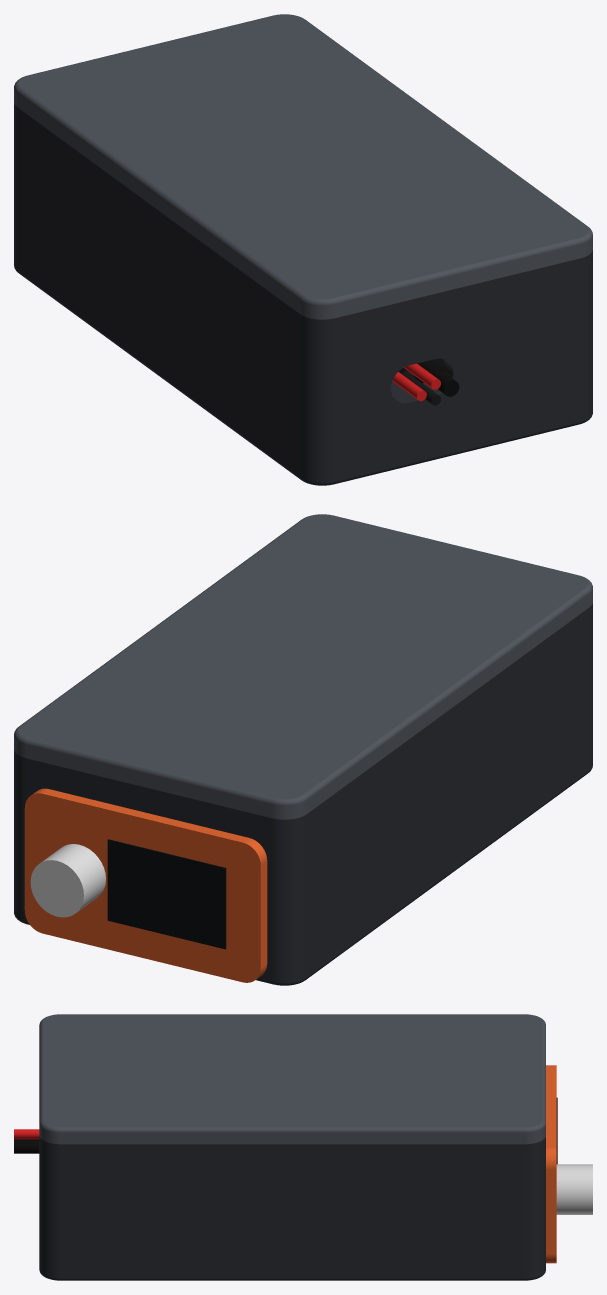
Rendered from wrangler_air_1591c.glb.
The picture shows the model from 3 angles, top to bottom: view 1: azimuth 30°, elevation 25°; view 2: azimuth 150°, elevation 25°; view 3: azimuth 270°, elevation 25°; orthographic projection. The views are drawn at different scales.
Parts seen in each view (by area): view 1: hammond_1591c_lid, hammond_1591c_body; view 2: hammond_1591c_lid, hammond_1591c_body, bezel, screen, knob; view 3: hammond_1591c_body, hammond_1591c_lid, bezel, knob, sensor_bundle.
Boxes of the visible parts, left/top/right/bottom form: hammond_1591c_lid: left=14, top=14, right=592, bottom=319; hammond_1591c_body: left=14, top=103, right=592, bottom=485; hammond_1591c_lid: left=14, top=514, right=592, bottom=819; hammond_1591c_body: left=14, top=603, right=592, bottom=985; bezel: left=24, top=788, right=267, bottom=982; screen: left=107, top=839, right=226, bottom=949; knob: left=30, top=844, right=105, bottom=917; hammond_1591c_body: left=39, top=1136, right=545, bottom=1280; hammond_1591c_lid: left=39, top=1014, right=545, bottom=1144; bezel: left=546, top=1065, right=556, bottom=1263; knob: left=556, top=1164, right=592, bottom=1214; sensor_bundle: left=14, top=1139, right=39, bottom=1153.
Bounding box in the file's own units: 65 × 40 × 137.
